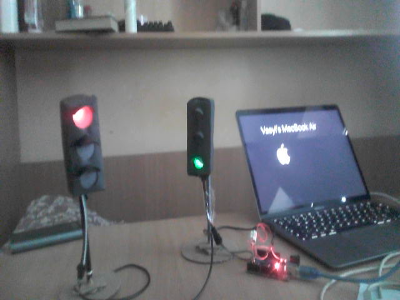trafficlight_green: (187, 101, 211, 174)
trafficlight_red: (64, 99, 104, 192)
